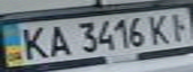1: (112, 16, 133, 50)
3: (72, 19, 100, 54)
4: (93, 17, 115, 52)
6: (127, 14, 151, 47)
A: (42, 21, 72, 57), (163, 10, 193, 43)
K: (15, 24, 51, 61), (145, 11, 175, 45)
